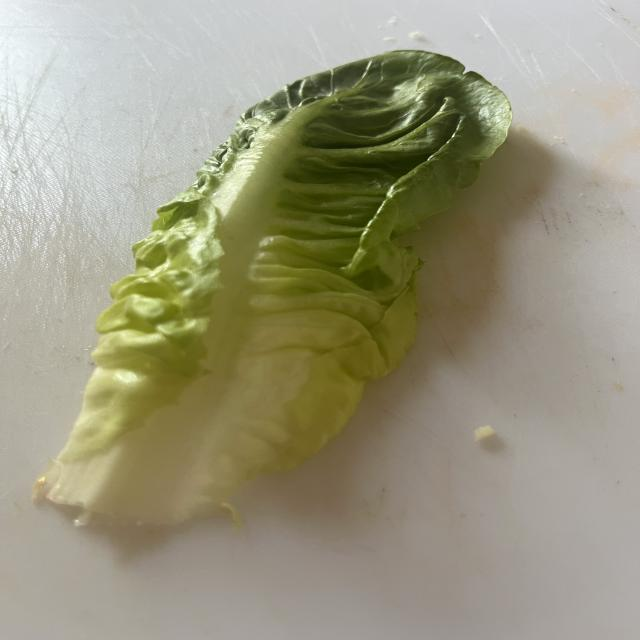lettuce: (38, 51, 510, 521)
